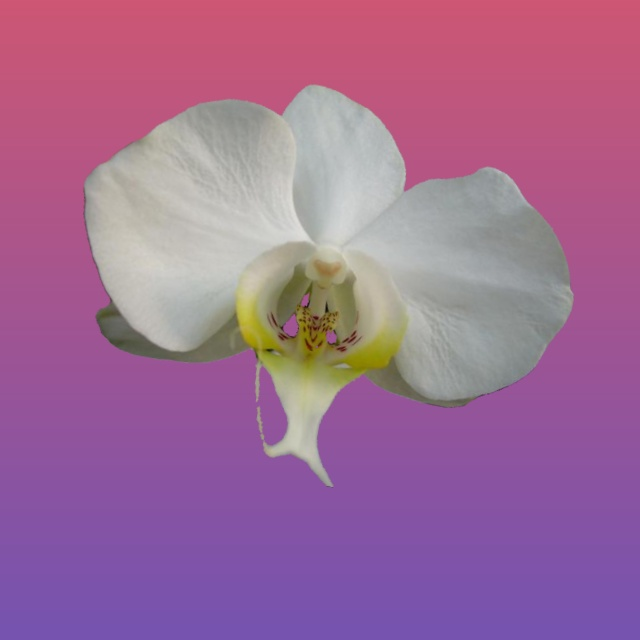orchid: (84, 85, 573, 486)
